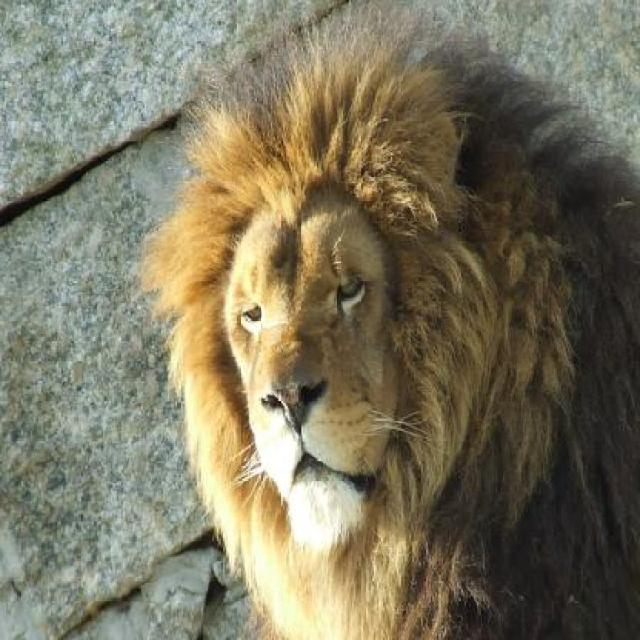Lion: (143, 29, 639, 638)
